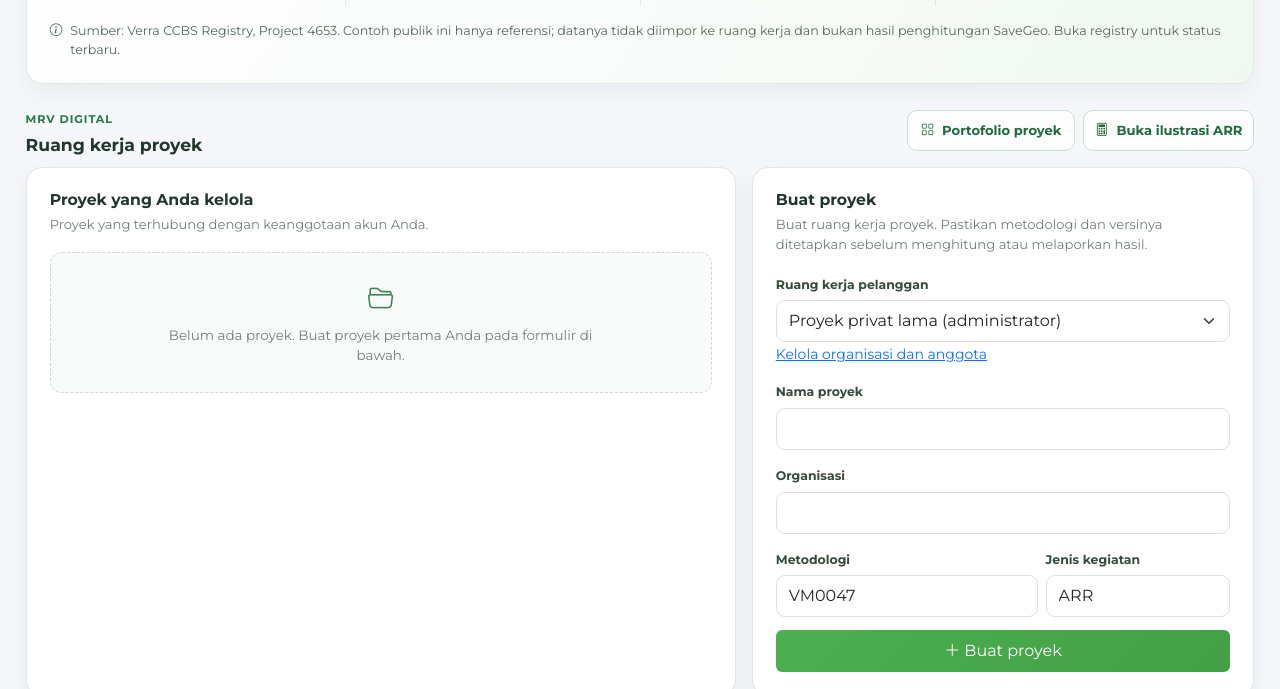
Test: DmrvProjectsPage › creates one project on a double click, with one idempotency key
(page scrolled)
Expected: the text "Belum ada proyek" is shown, [169,327,592,363]
Type "  Pilot ARR  " into the field labelled "Nama proyek".
click(1003, 429); type("  Pilot ARR  ")  # box [776,408,1230,450]
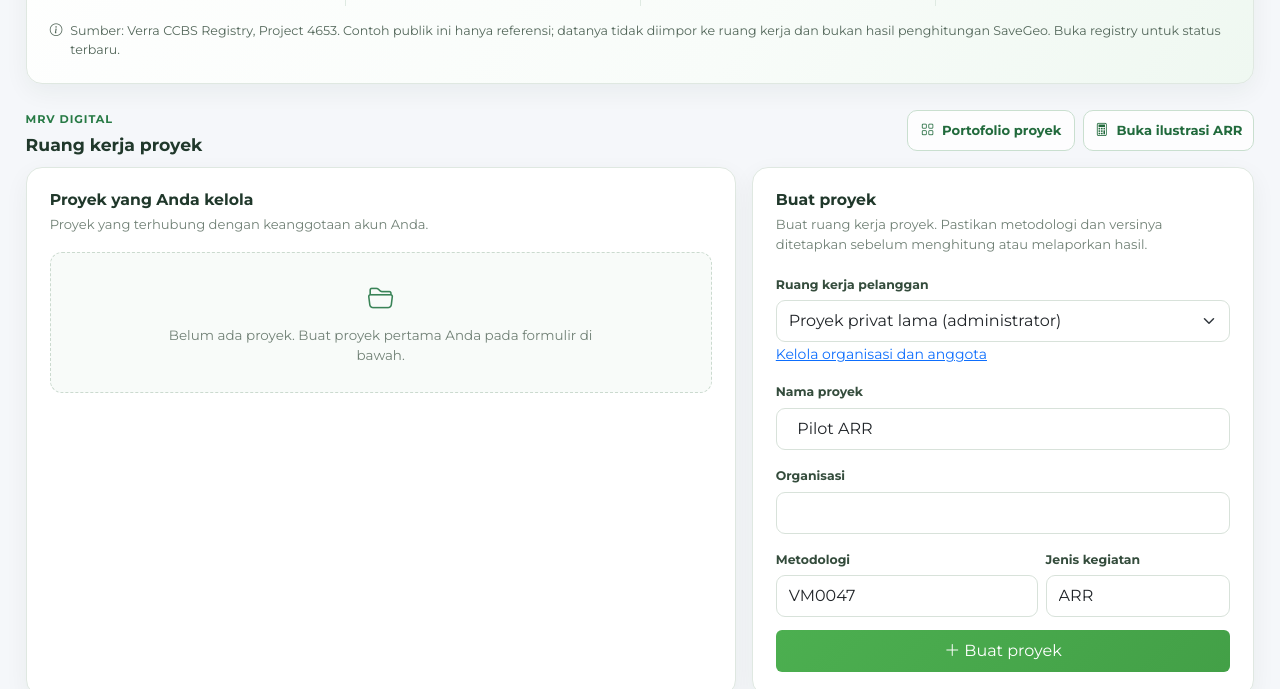
Click the button "Buat proyek".
click(1003, 651)  # box [776,630,1230,672]
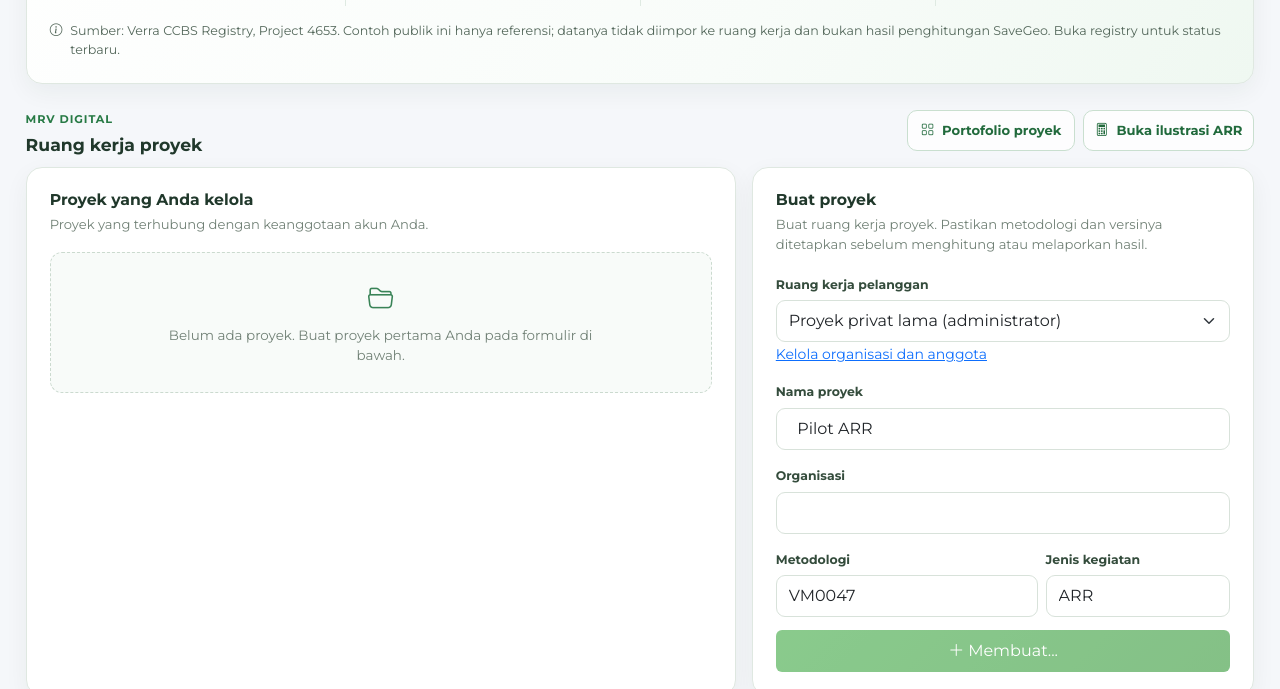
Click the button named "Buat proyek".
click(1003, 651)  # box [776,630,1230,672]
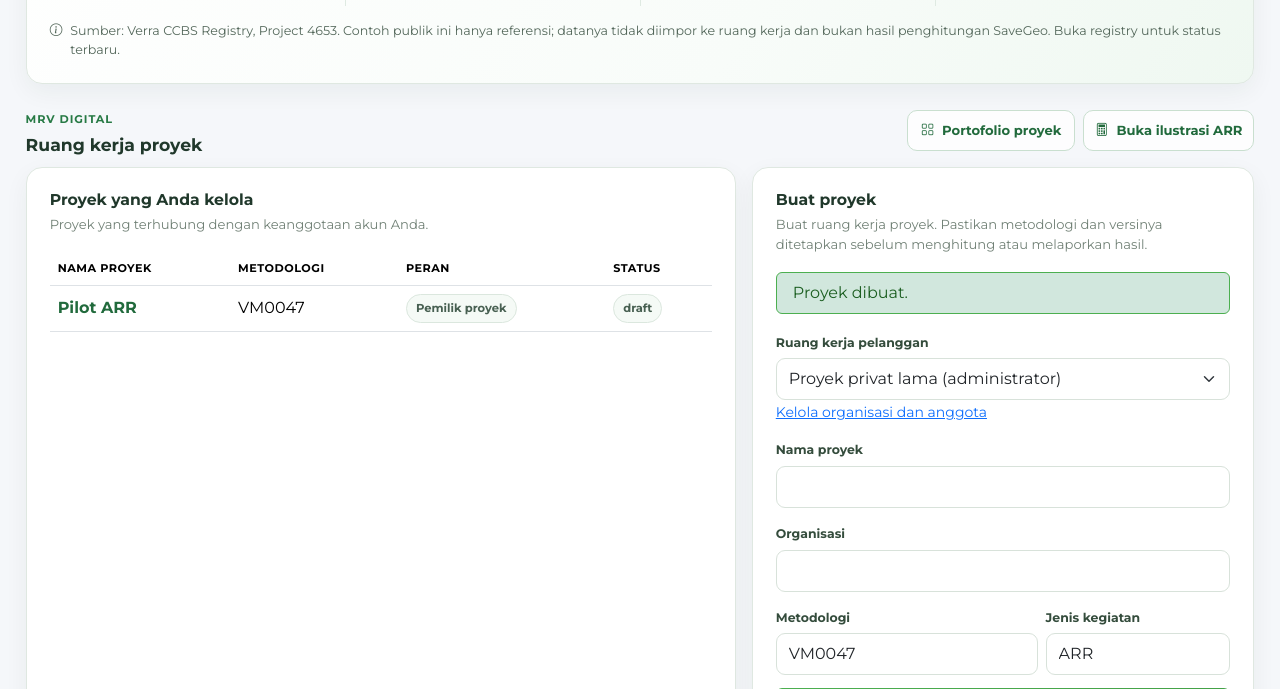
Expected: the message reads "Proyek dibuat.", [793,282,908,302]
Expected: the link "Pilot ARR" is shown, [58,298,137,317]
